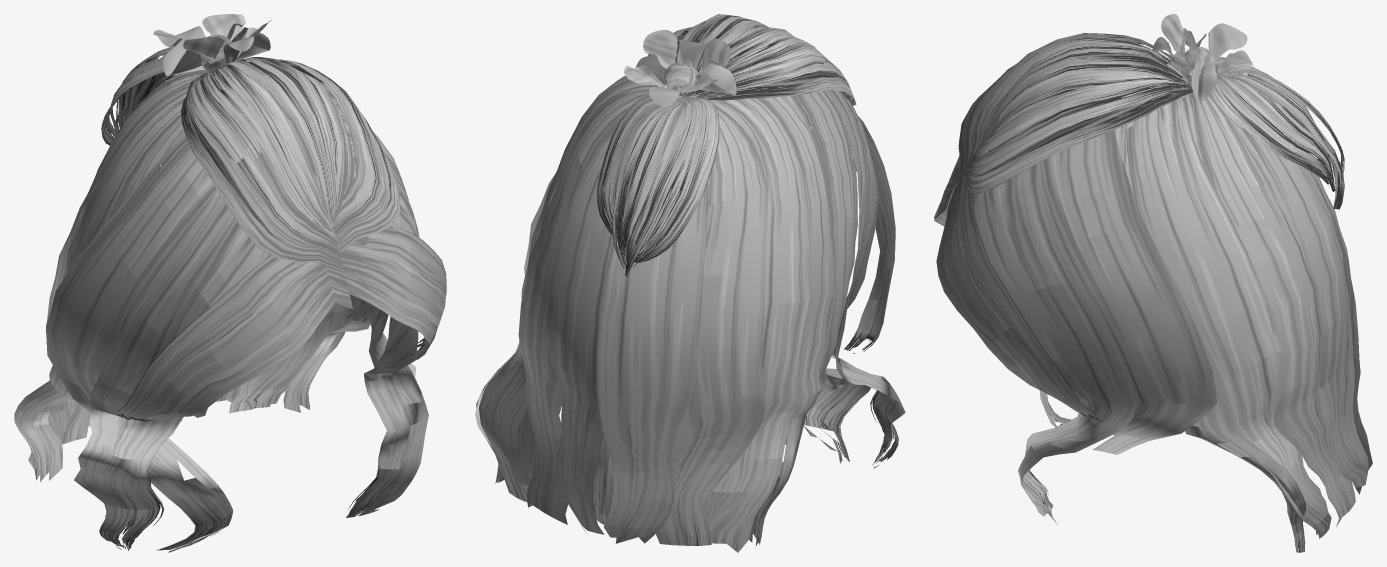
Rendered from daz_hair_twin_braids.glb.
The picture shows the model from 3 angles, left to right: view 1: azimuth 30°, elevation 25°; view 2: azimuth 150°, elevation 25°; view 3: azimuth 270°, elevation 25°; orthographic projection. The views are drawn at different scales.
Visible parts, largest first — view 1: daz_hair_twin_braids; view 2: daz_hair_twin_braids; view 3: daz_hair_twin_braids.
Part boxes in pixels (<box>): daz_hair_twin_braids: <box>14,14,446,552</box>; daz_hair_twin_braids: <box>475,14,905,552</box>; daz_hair_twin_braids: <box>934,14,1372,552</box>.
Size of the model in its own units: 0.2191 by 0.2681 by 0.2336.
Materials: 1 (1 with a texture image).
